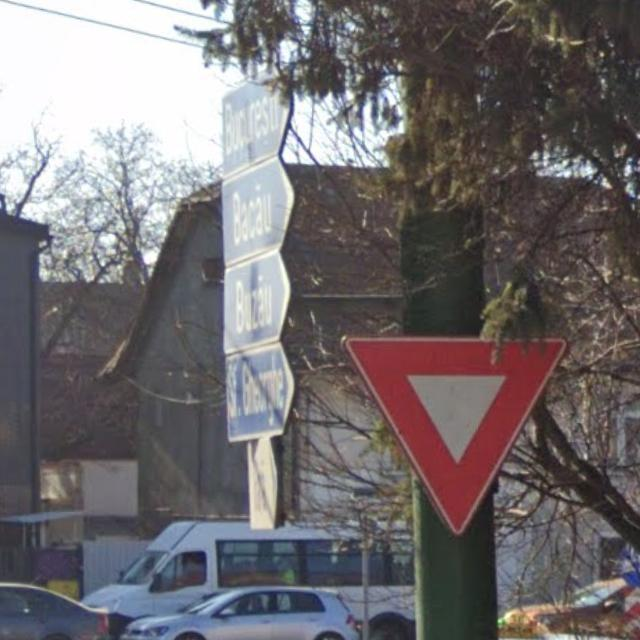prio_give_way: (337, 334, 569, 540)
